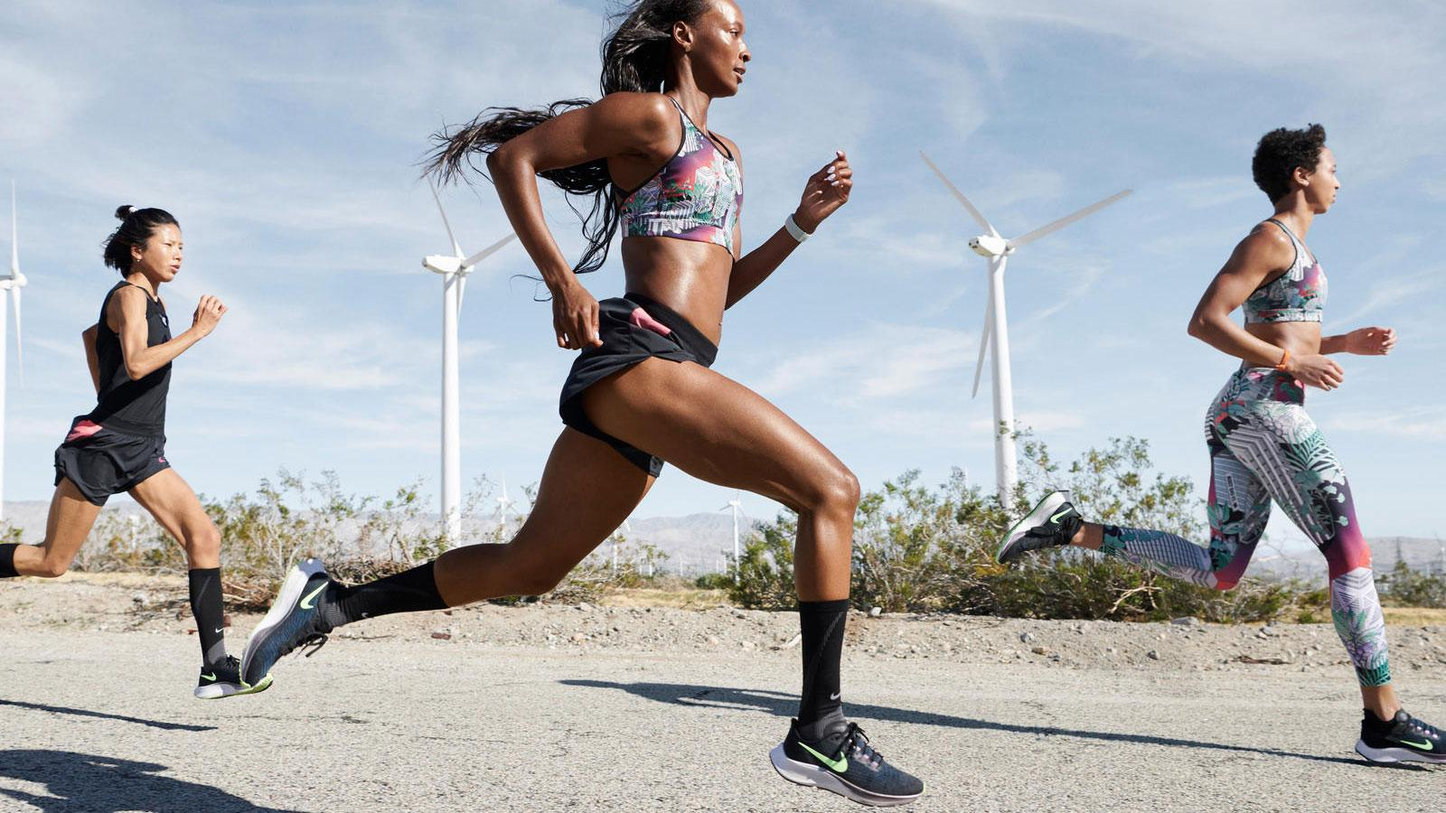nike logo: (781, 726, 858, 780), (1369, 719, 1445, 763), (1035, 495, 1085, 536), (293, 573, 336, 620), (196, 663, 226, 692)
sock logo: (803, 601, 851, 718), (191, 569, 229, 659)
